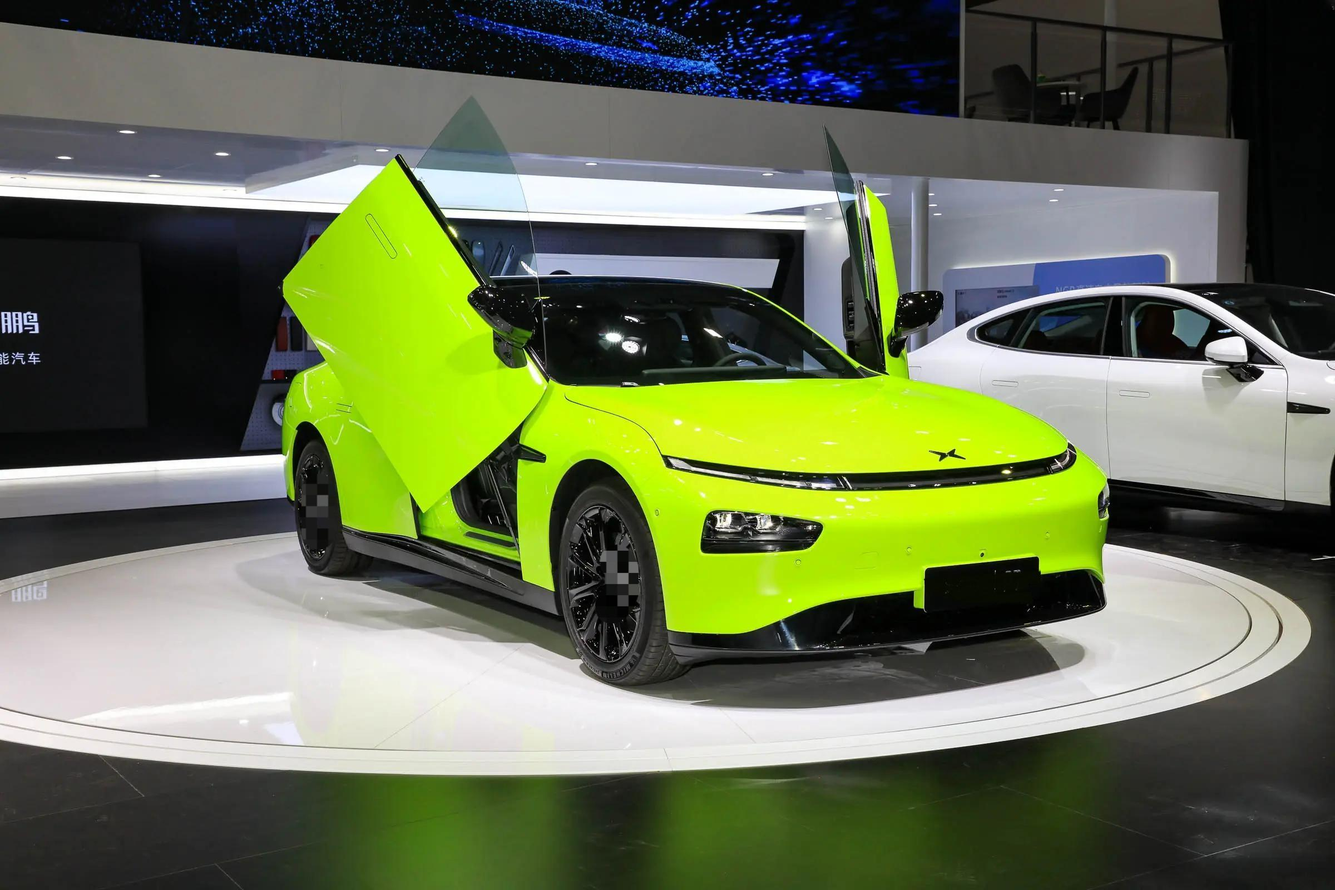XPeng Motors: (928, 448, 966, 462)
